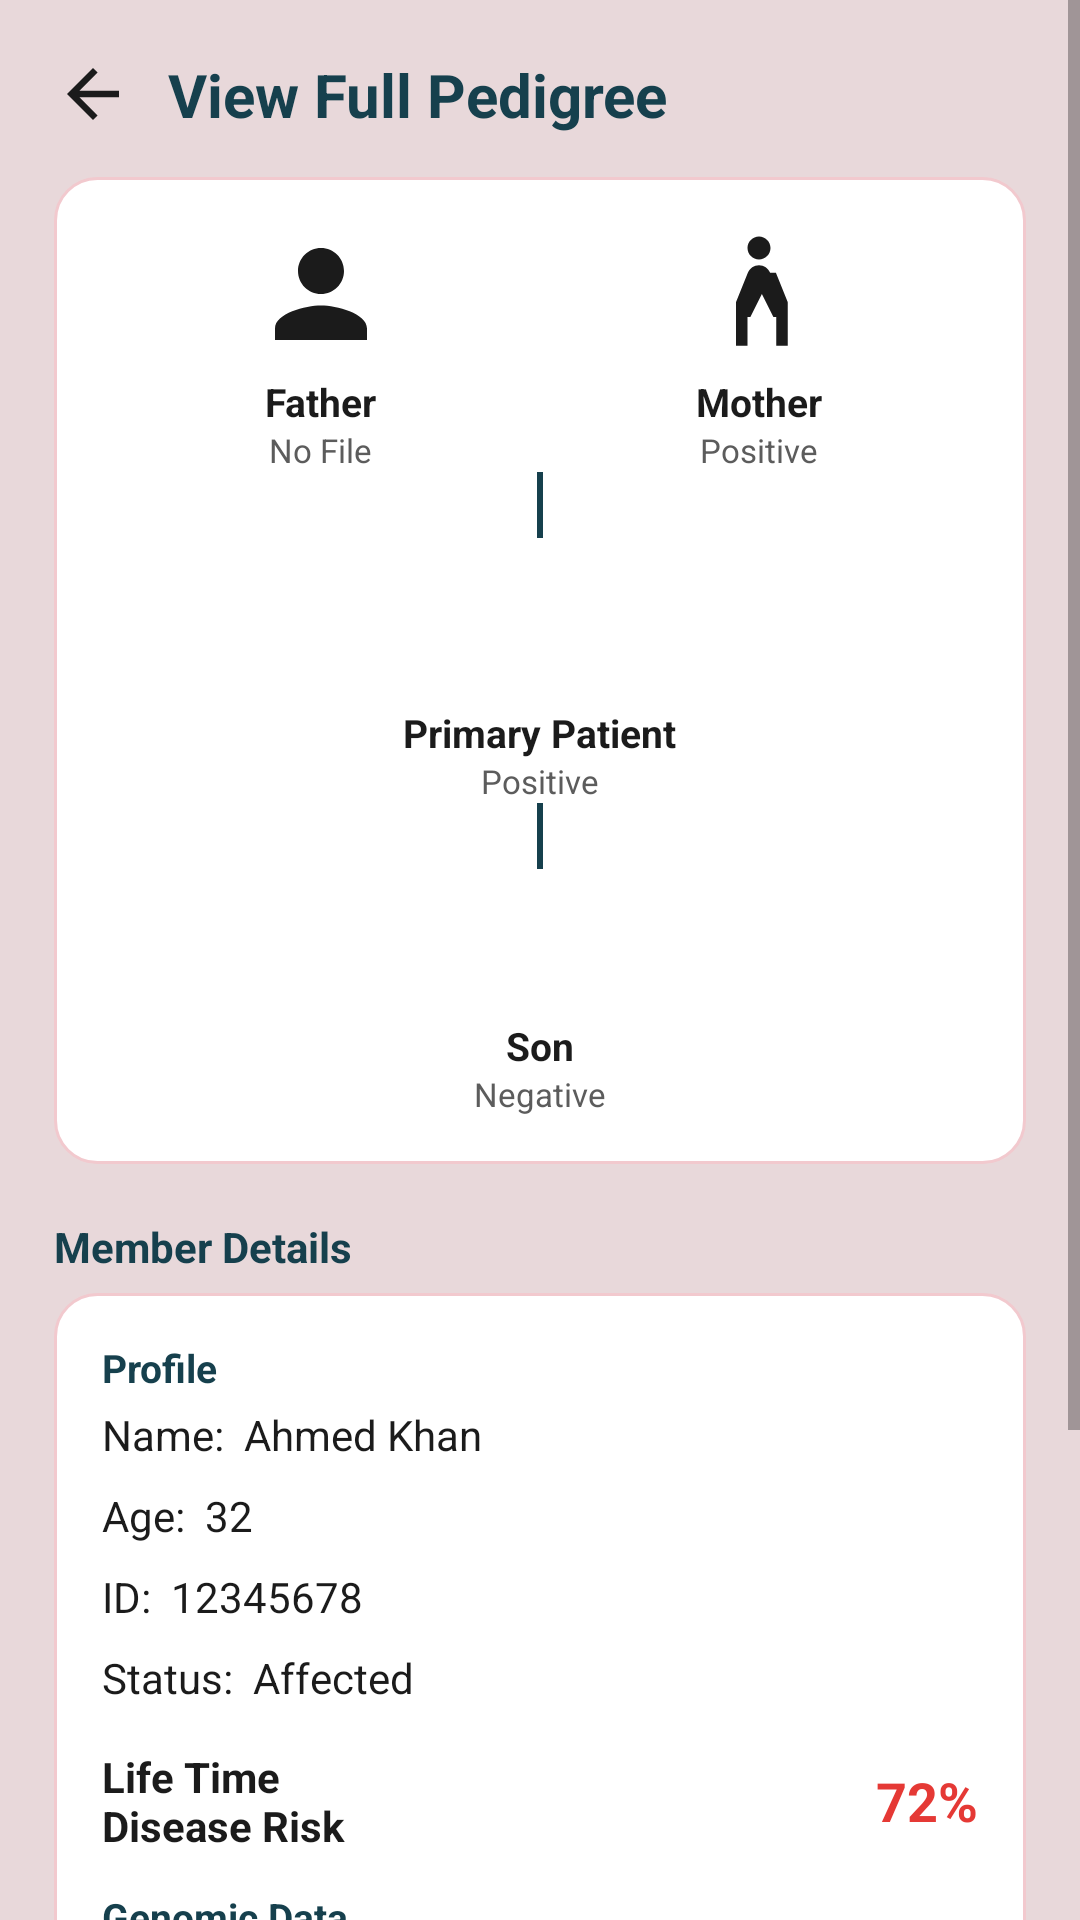

Named icons in this screenshot (1080*1920) and their bounding boxes, (x1, y1, x2, y2):
Back: (67, 68, 119, 120)
